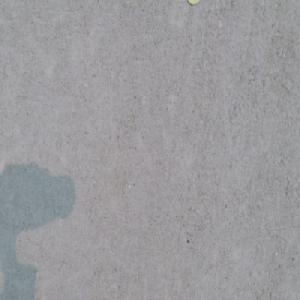Washer: (186, 0, 201, 5)
